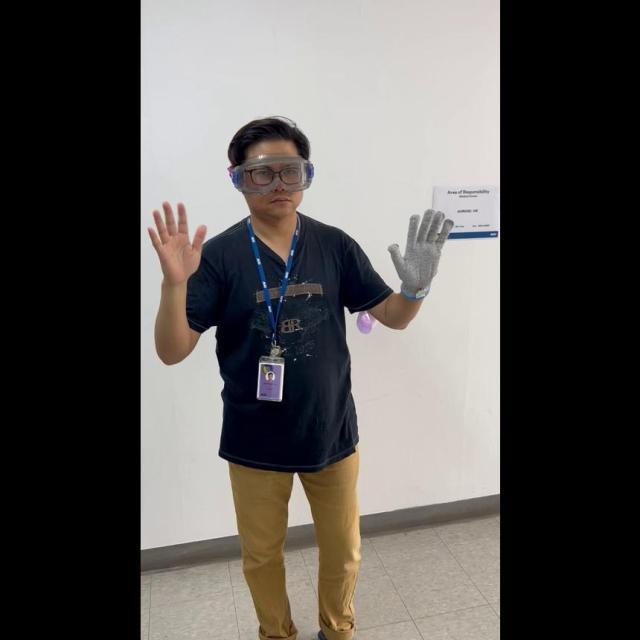bare_hand: (144, 194, 206, 282)
gloved_hand: (385, 205, 451, 296)
